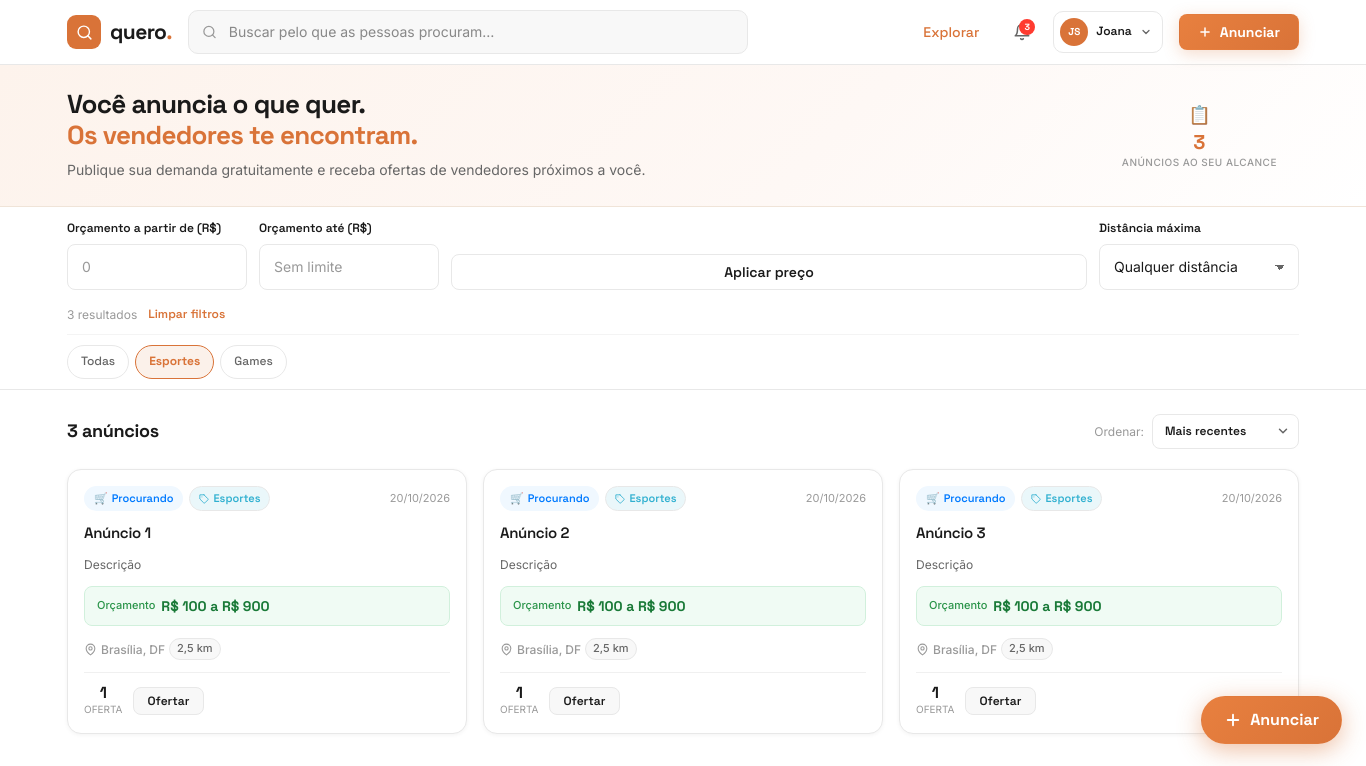
it: feed de anúncios (API) › mantém os filtros ao voltar do detalhe
Click the link "Anúncio 1" at [117, 533], box 84,523 -> 151,542
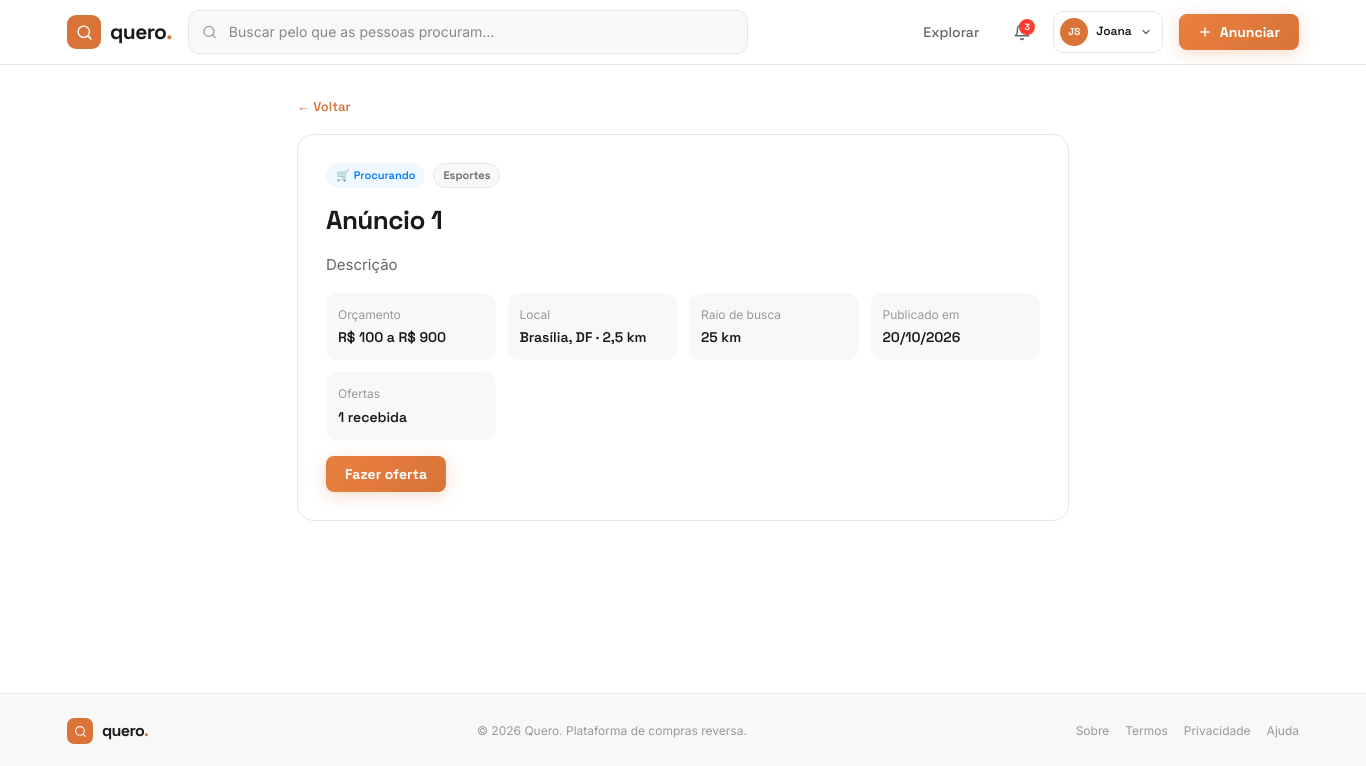
Expected: the heading "Anúncio 1" is shown, 326,203 -> 442,237
Click the button "← Voltar" at [324, 107], box 297,97 -> 351,118
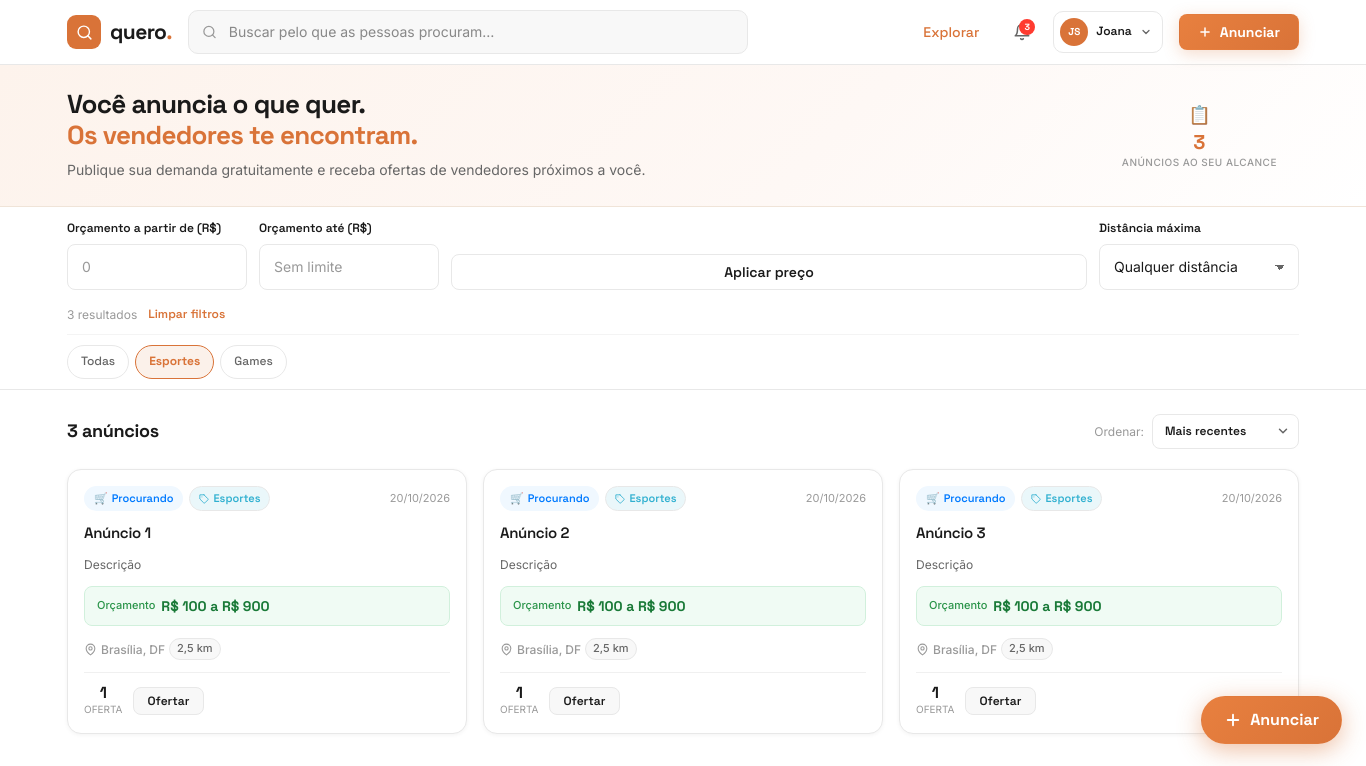
Result: the dropdown labelled "Ordenar:" shows "Mais recentes" at 1152,414 -> 1299,449
